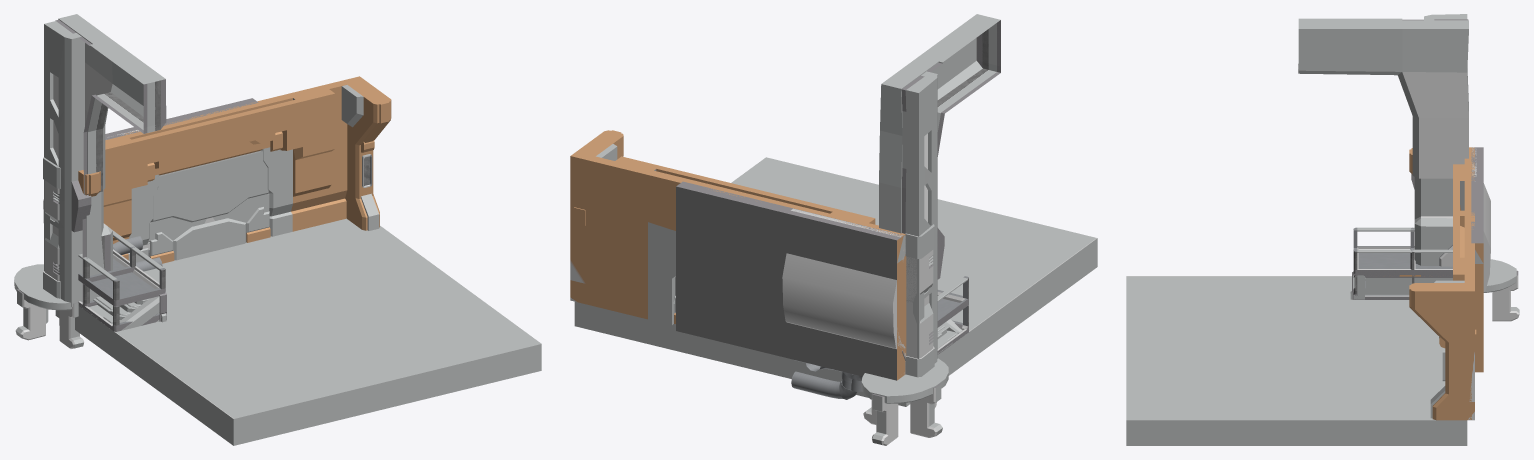
The model's file is SM_Mod.gltf.
The picture shows the model from 3 angles, left to right: view 1: azimuth 30°, elevation 25°; view 2: azimuth 150°, elevation 25°; view 3: azimuth 270°, elevation 25°; orthographic projection. The views are drawn at different scales.
Visible parts, largest first — view 1: Floor, Doorway, Door, Pillar_Thick, Pillar_Power, ScaffoldL, Pillar_Power_T, Pillar_Thin, Stairs, ScaffoldS, Wall_L; view 2: Wall_L, Floor, Doorway, Pillar_Thick, Window, Pillar_Power, Pillar_Power_T, Wall_S, Pillar_Thin, ScaffoldL, PipeL_Zig, Bridge (+1 smaller); view 3: Floor, Pillar_Thick, Doorway, ScaffoldL, Wall_L, Pillar_Power_T, Stairs, Window, ScaffoldS.
Part boxes in pixels (left/top/right/bottom): Floor: left=55, top=218, right=541, bottom=445; Doorway: left=78, top=76, right=391, bottom=262; Door: left=149, top=151, right=270, bottom=263; Pillar_Thick: left=55, top=14, right=166, bottom=303; Pillar_Power: left=44, top=21, right=91, bottom=306; ScaffoldL: left=78, top=230, right=165, bottom=331; Pillar_Power_T: left=14, top=264, right=83, bottom=348; Pillar_Thin: left=43, top=157, right=60, bottom=298; Stairs: left=55, top=292, right=166, bottom=357; ScaffoldS: left=78, top=234, right=135, bottom=309; Wall_L: left=105, top=98, right=258, bottom=256; Wall_L: left=676, top=181, right=905, bottom=380; Floor: left=574, top=157, right=1097, bottom=406; Doorway: left=570, top=130, right=906, bottom=375; Pillar_Thick: left=879, top=14, right=1000, bottom=233; Window: left=782, top=208, right=905, bottom=374; Pillar_Power: left=902, top=71, right=944, bottom=363; Pillar_Power_T: left=861, top=358, right=948, bottom=445; Wall_S: left=786, top=211, right=905, bottom=380; Pillar_Thin: left=902, top=224, right=934, bottom=377; ScaffoldL: left=937, top=276, right=968, bottom=354; PipeL_Zig: left=791, top=371, right=856, bottom=399; Bridge: left=795, top=310, right=1001, bottom=376; Floor: left=1126, top=276, right=1467, bottom=445; Pillar_Thick: left=1298, top=18, right=1468, bottom=266; Doorway: left=1409, top=147, right=1476, bottom=420; ScaffoldL: left=1353, top=227, right=1452, bottom=299; Wall_L: left=1471, top=147, right=1483, bottom=372; Pillar_Power_T: left=1483, top=259, right=1519, bottom=321; Stairs: left=1350, top=271, right=1452, bottom=299; Window: left=1472, top=147, right=1490, bottom=291; ScaffoldS: left=1410, top=227, right=1452, bottom=283.
Size of the model in its own units: 13.35 by 11.68 by 13.84.
Materials: 2 (2 with a texture image).
